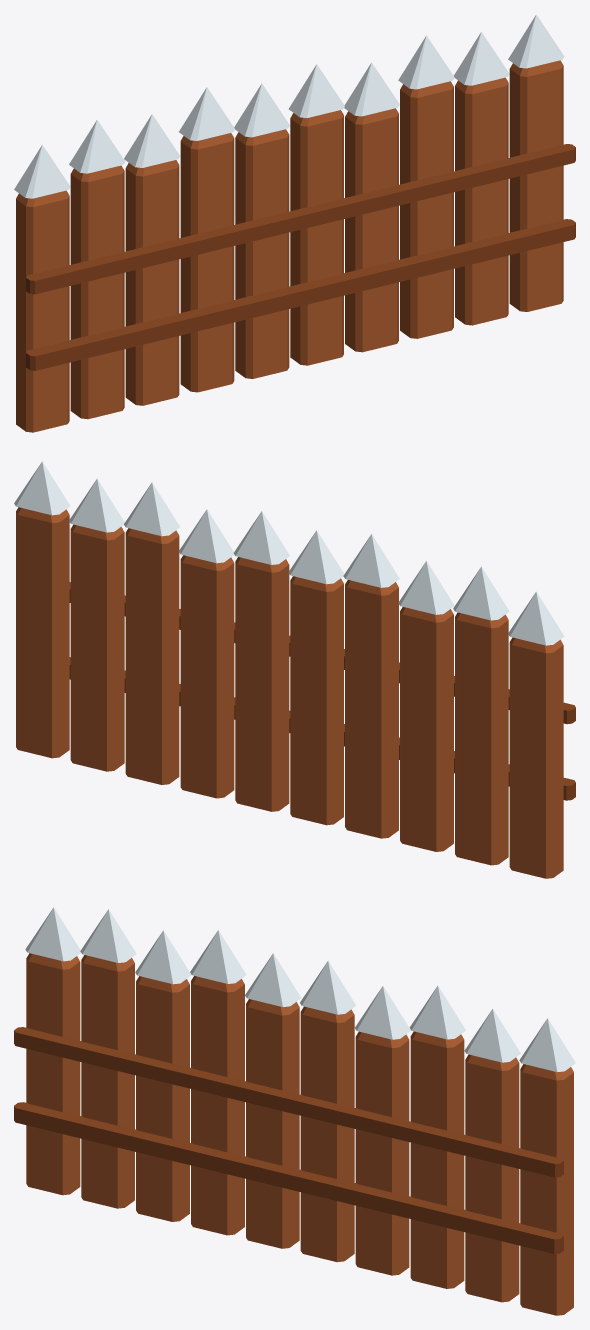
Rendered from fence_panel.obj.
The picture shows the model from 3 angles, top to bottom: view 1: azimuth 30°, elevation 25°; view 2: azimuth 150°, elevation 25°; view 3: azimuth 330°, elevation 25°; orthographic projection.
Visible parts, largest first — view 1: fence_panel; view 2: fence_panel; view 3: fence_panel.
Boxes of the visible parts, x1,y1,x2,y2 form: fence_panel: (14,14,575,432); fence_panel: (14,461,575,878); fence_panel: (14,907,575,1315).
Size of the model in its own units: 2.94 by 1.52 by 0.2241.
